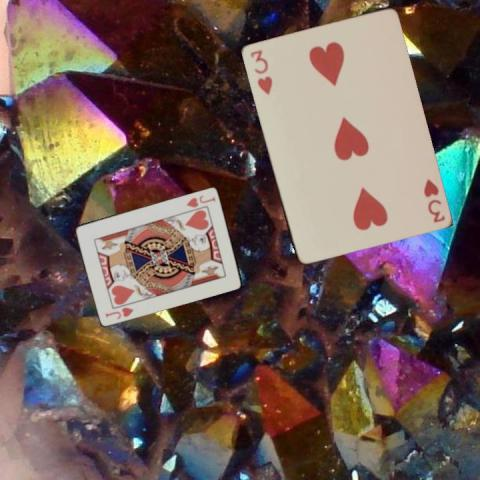3h: (247, 47, 273, 96), (420, 175, 446, 224)
Jh: (183, 192, 217, 209), (103, 304, 134, 320)
